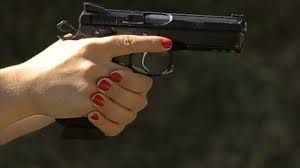gun: (65, 1, 255, 77)
